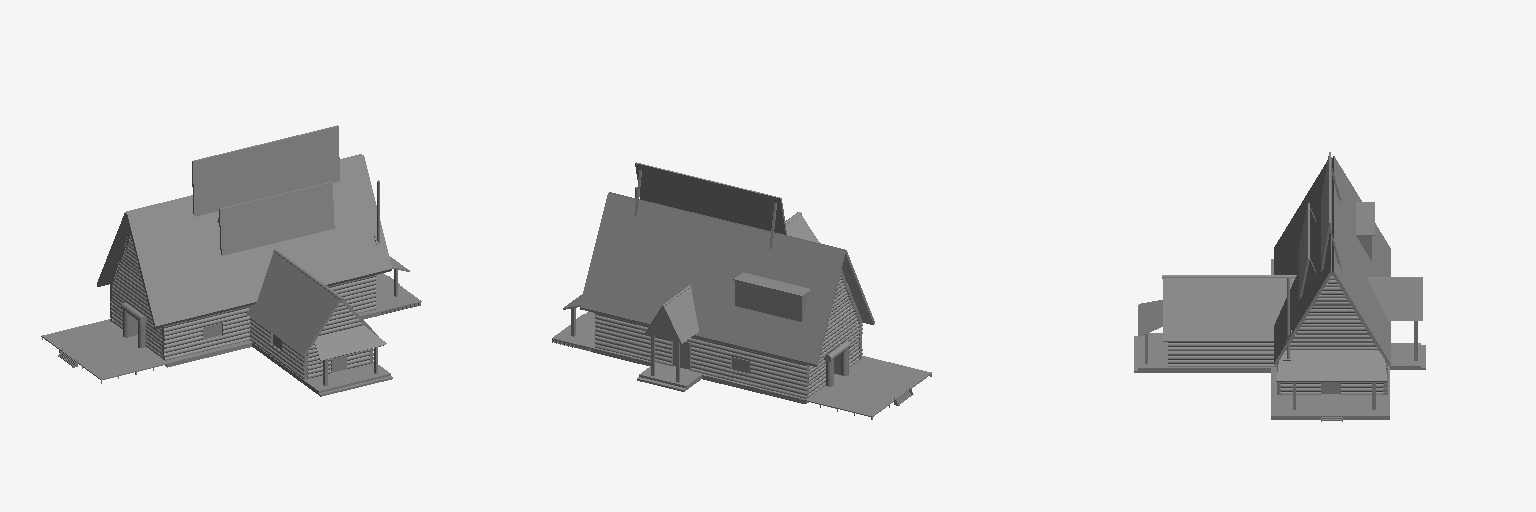
File: mystery_shack.obj
3 renders of one model, left to right at view 1: azimuth 30°, elevation 25°; view 2: azimuth 150°, elevation 25°; view 3: azimuth 270°, elevation 25°, orthographic.
Parts seen in each view (by area): view 1: pasted__pasted__pasted__pCube7_pasted__pasted__group82_pasted__g, pCube27, pCube14, pasted__pCube27_group398, pCube7, pasted__pasted__pasted__pasted__pasted__pasted__pasted__pasted__, pCube20, group265_pasted__pasted__pasted__pasted__pasted__pasted__pasted_, pasted__pasted__pasted__pasted__pCube7_pasted__pasted__pasted__g, pCube30, pasted__pasted__pasted__pasted__pasted__pasted__pCylinder2_paste; view 2: pasted__pasted__pasted__pasted__pCube7_pasted__pasted__pasted__g, pasted__pasted__pasted__pasted__pasted__pasted__pasted__pasted__, pCube14, pCube27, pCube18, pCube22, pasted__pasted__pasted__pCube7_pasted__pasted__group82_pasted__g, group265_pasted__pasted__pasted__pasted__pasted__pasted__pasted_, pCube30, pCube19, pCube21; view 3: pasted__pCube7_group82, pasted__pasted__pasted__pasted__pCube7_pasted__pasted__pasted__g, pasted__pasted__pasted__pCube7_pasted__pasted__group82_pasted__g, pCube14, pasted__pasted__pasted__pasted__pasted__pasted__pasted__pasted__, pCube15, pasted__pCube22_group370, pCube30, pasted__group29_group60_pasted__pasted__group26_pasted__pasted__, pCube27, pCube20, pasted__pCube27_group398 (+3 smaller).
Part boxes in pixels (x1,y1,x2,y2): pasted__pasted__pasted__pCube7_pasted__pasted__group82_pasted__g: (126, 155, 391, 328); pCube27: (192, 125, 339, 216); pCube14: (41, 273, 421, 391); pasted__pCube27_group398: (219, 181, 334, 255); pCube7: (246, 251, 340, 355); pasted__pasted__pasted__pasted__pasted__pasted__pasted__pasted__: (42, 232, 399, 383); pCube20: (315, 325, 386, 360); group265_pasted__pasted__pasted__pasted__pasted__pasted__pasted_: (113, 237, 148, 306); pasted__pasted__pasted__pasted__pCube7_pasted__pasted__pasted__g: (97, 154, 361, 286); pCube30: (165, 313, 392, 396); pasted__pasted__pasted__pasted__pasted__pasted__pCylinder2_paste: (162, 332, 369, 379); pasted__pasted__pasted__pasted__pCube7_pasted__pasted__pasted__g: (580, 193, 845, 366); pasted__pasted__pasted__pasted__pasted__pasted__pasted__pasted__: (576, 297, 931, 419); pCube14: (552, 311, 931, 416); pCube27: (635, 162, 786, 234); pCube18: (735, 281, 808, 321); pCube22: (663, 287, 698, 343); pasted__pasted__pasted__pCube7_pasted__pasted__group82_pasted__g: (609, 192, 874, 324); group265_pasted__pasted__pasted__pasted__pasted__pasted__pasted_: (823, 274, 857, 345); pCube30: (593, 349, 808, 403); pCube19: (733, 272, 811, 296); pCube21: (646, 308, 679, 341); pasted__pCube7_group82: (1163, 278, 1294, 341); pasted__pasted__pasted__pasted__pCube7_pasted__pasted__pasted__g: (1332, 156, 1390, 365); pasted__pasted__pasted__pCube7_pasted__pasted__group82_pasted__g: (1274, 157, 1331, 366); pCube14: (1138, 259, 1420, 416); pasted__pasted__pasted__pasted__pasted__pasted__pasted__pasted__: (1274, 274, 1387, 421); pCube15: (1276, 350, 1386, 381); pasted__pCube22_group370: (1368, 279, 1422, 320); pCube30: (1134, 336, 1425, 372); pasted__group29_group60_pasted__pasted__group26_pasted__pasted__: (1168, 356, 1273, 363); pCube27: (1321, 152, 1330, 271); pCube20: (1138, 300, 1162, 336); pasted__pCube27_group398: (1299, 203, 1309, 299).
Size of the model in its own units: 39.65 by 19.64 by 30.32.